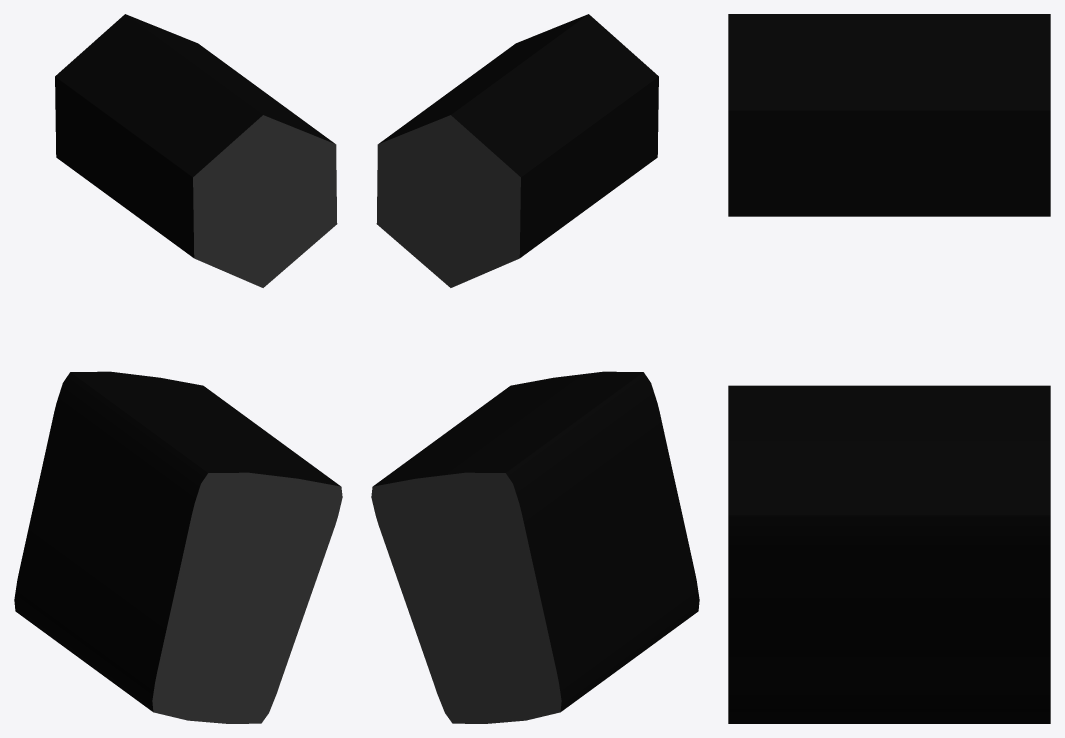
Rendered from 4b173b37-757a-407a-8333-200b2fab1038.glb.
3 renders of one model, left to right at view 1: azimuth 30°, elevation 25°; view 2: azimuth 150°, elevation 25°; view 3: azimuth 270°, elevation 25°, orthographic. The views are drawn at different scales.
Visible parts, largest first — view 1: ;_Zyzol_Black; view 2: ;_Zyzol_Black; view 3: ;_Zyzol_Black.
Part boxes in pixels (bbox=[...]): ;_Zyzol_Black: bbox=[14, 14, 342, 723]; ;_Zyzol_Black: bbox=[371, 14, 699, 723]; ;_Zyzol_Black: bbox=[728, 14, 1050, 723].
Size of what is drawn, in the model's own units: 0.0358 by 0.1094 by 0.045.
Materials: 2 (2 with a texture image).
